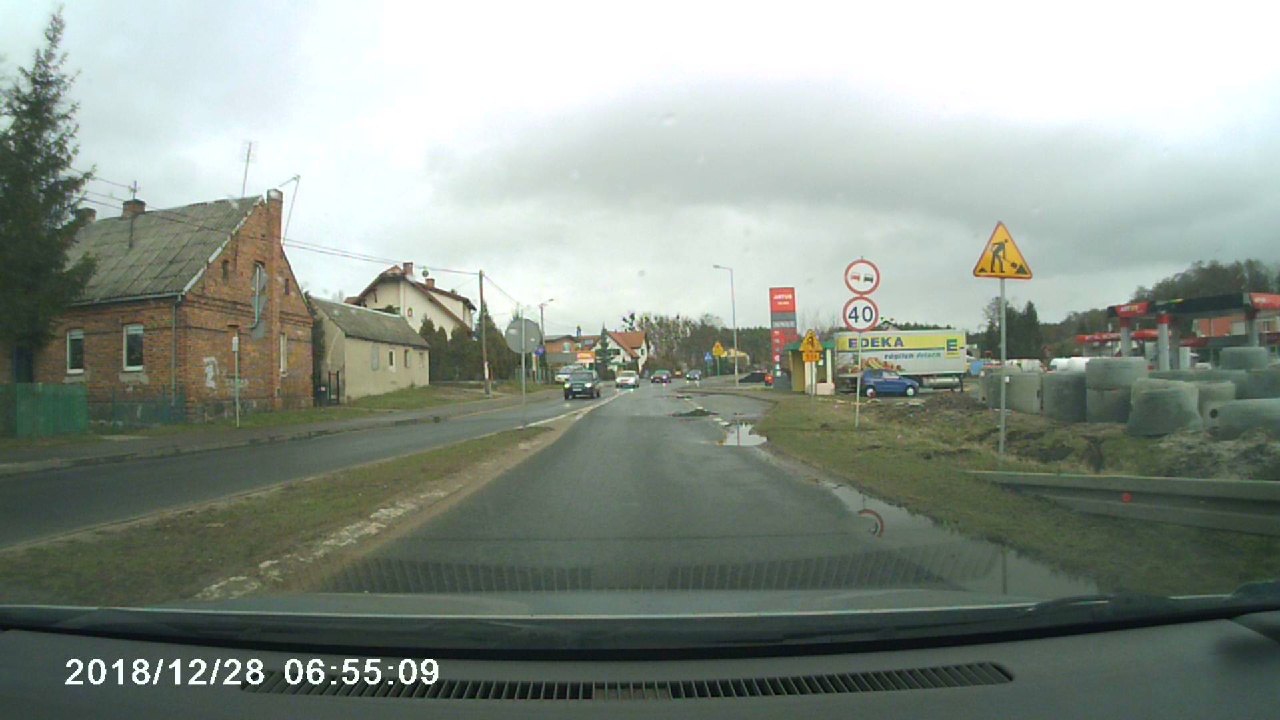A14: (965, 217, 1035, 281)
B25: (840, 252, 885, 296)
B33_40: (835, 294, 888, 331)
